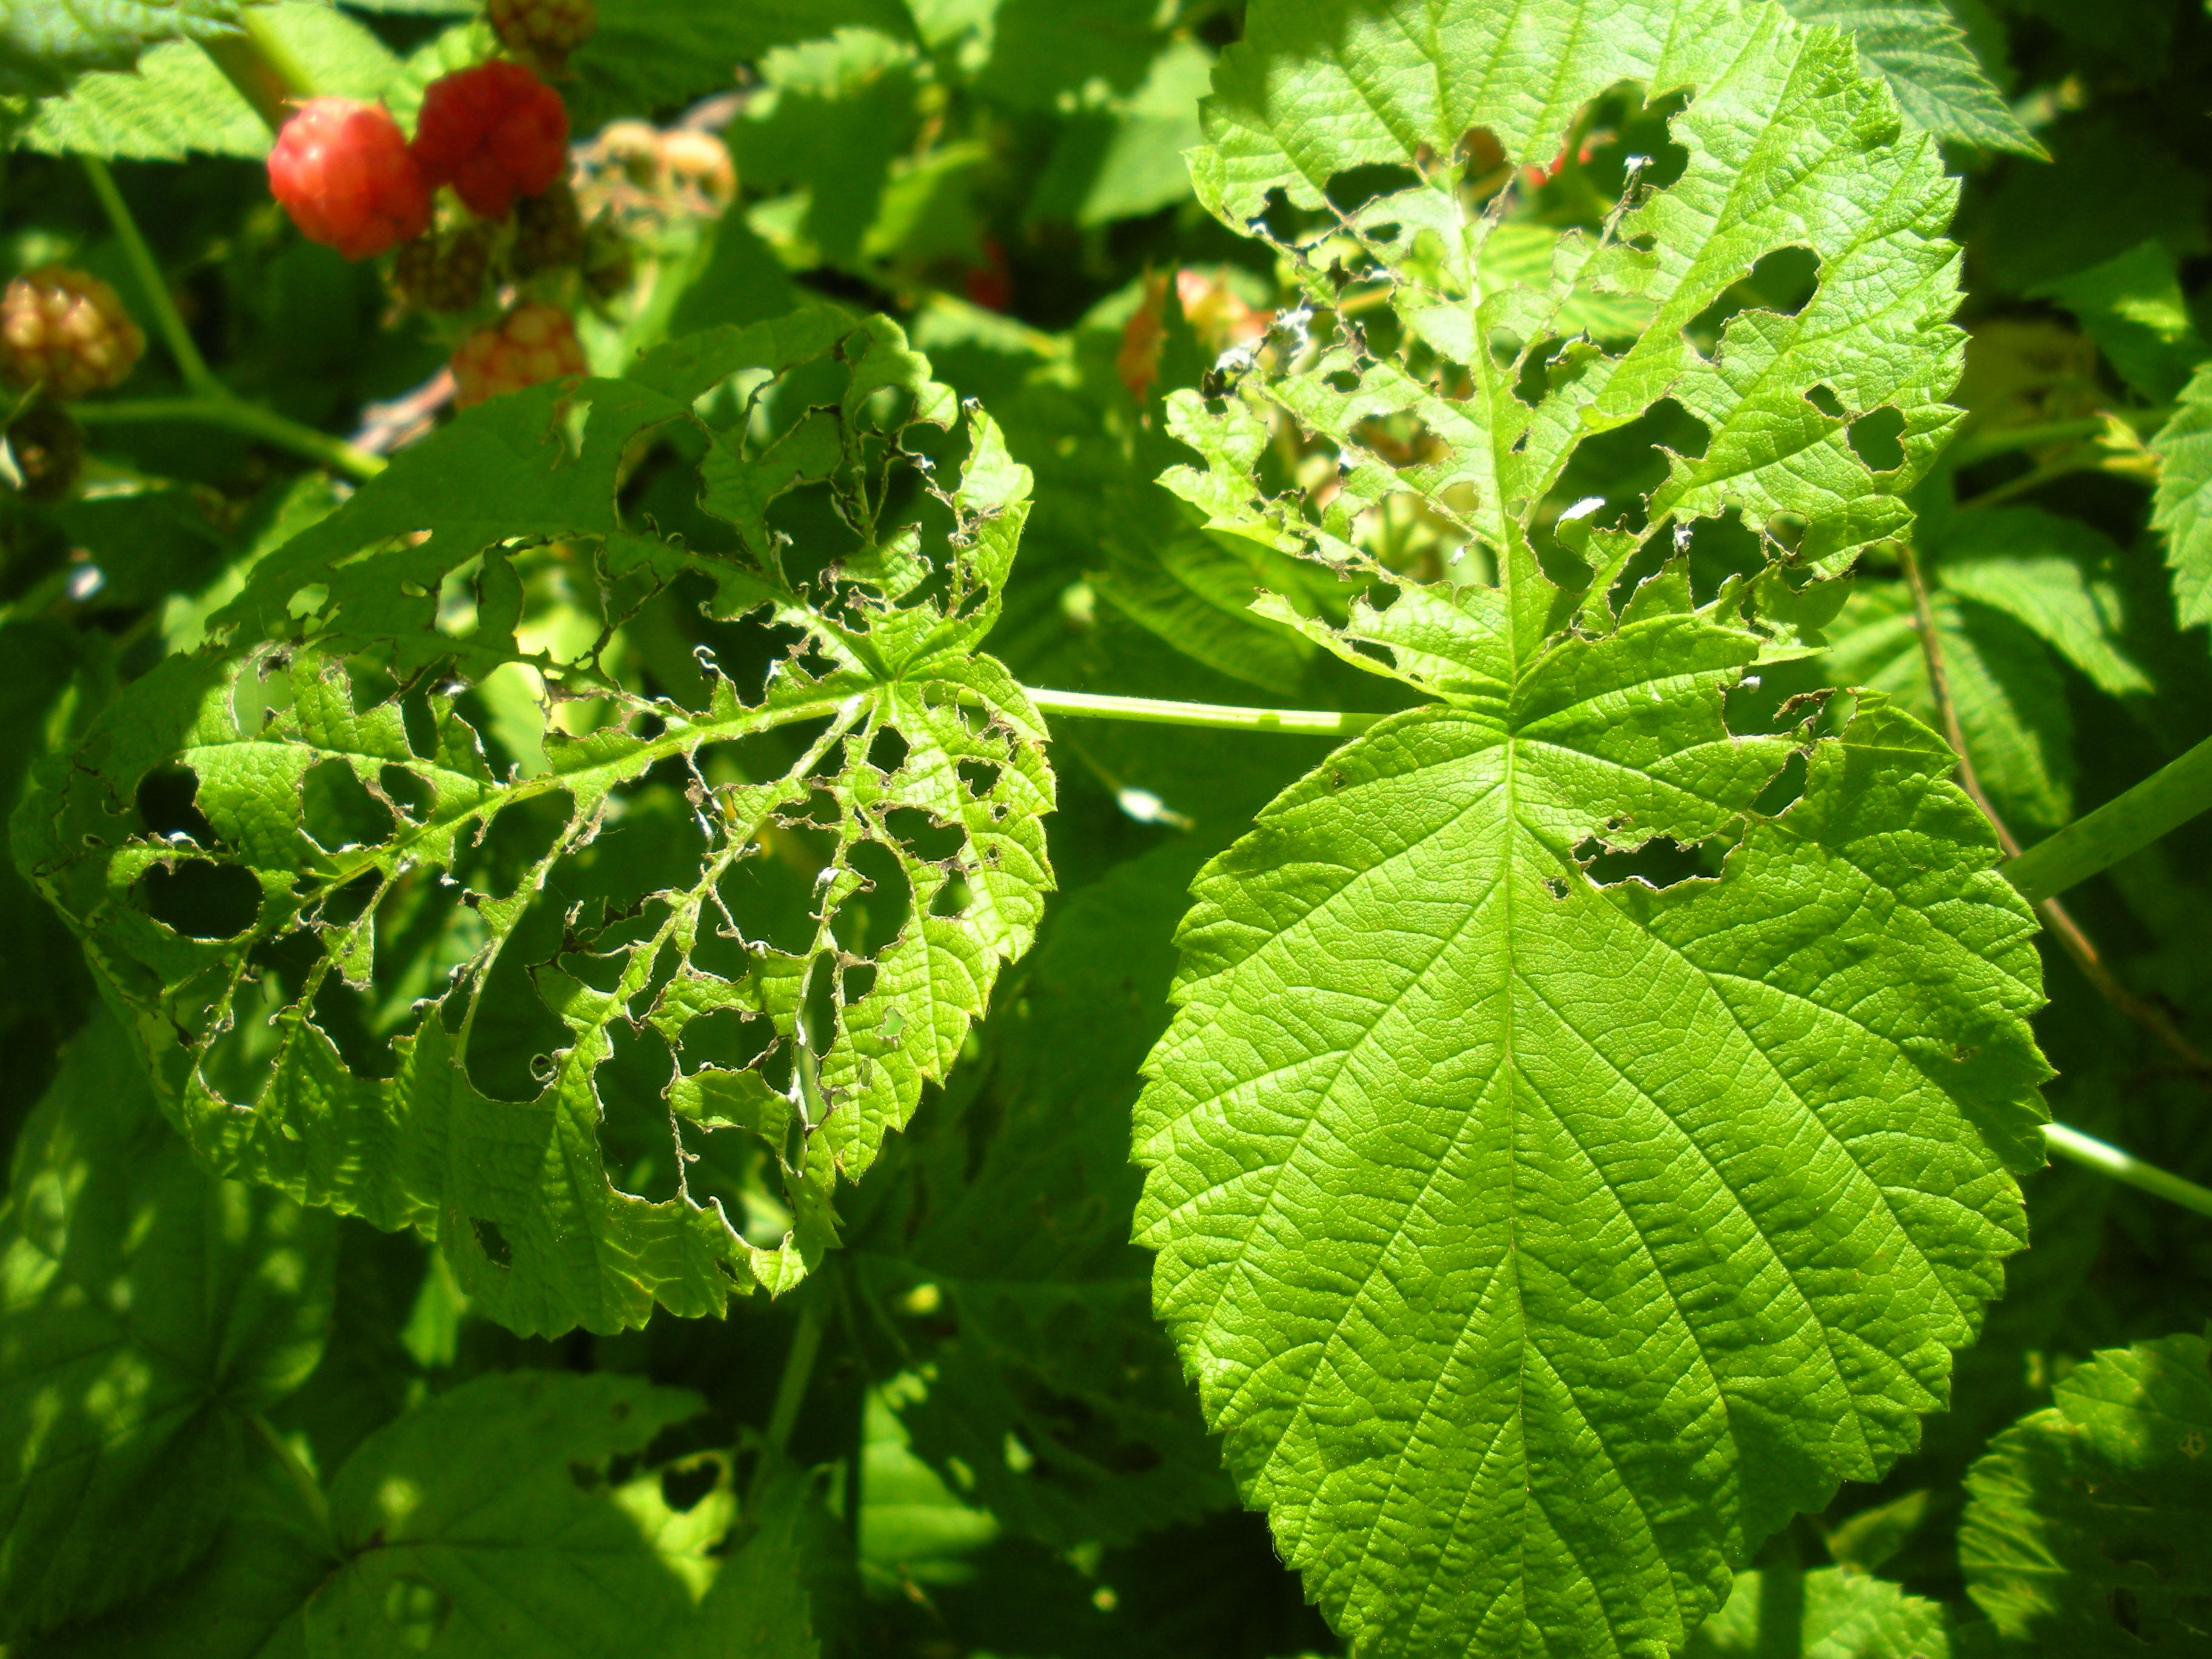Raspberry leaf: (1136, 688, 2055, 1659)
